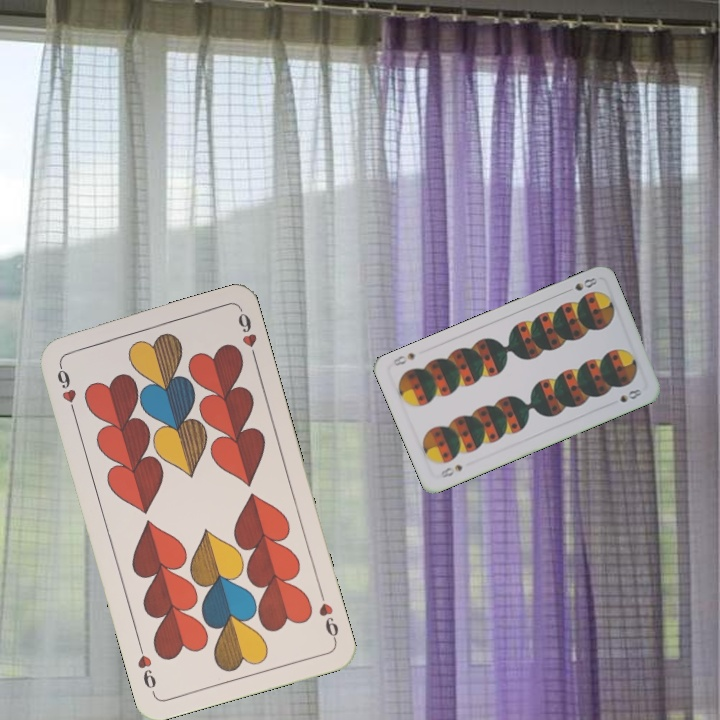H9: (315, 586, 341, 644), (53, 359, 79, 417)
S8: (561, 273, 600, 296), (436, 461, 465, 481)
